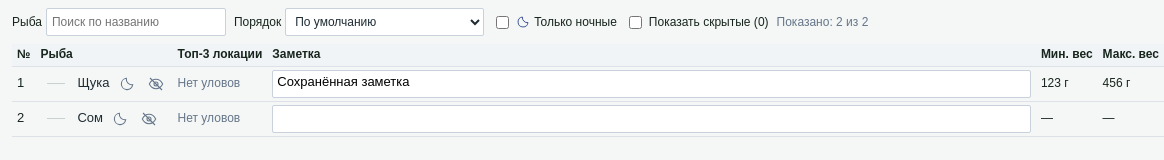
Test case: responsive viewport changes keep the same editor and its unsaved draft
Type " черновик" into the text box named "Заметка — Щука" at (652, 84), box [272,70,1031,98]
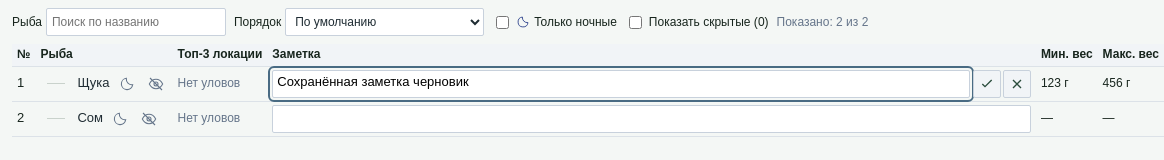
Result: the text box named "Заметка — Щука" holds "Сохранённая заметка черновик" at [272,70,970,98]
